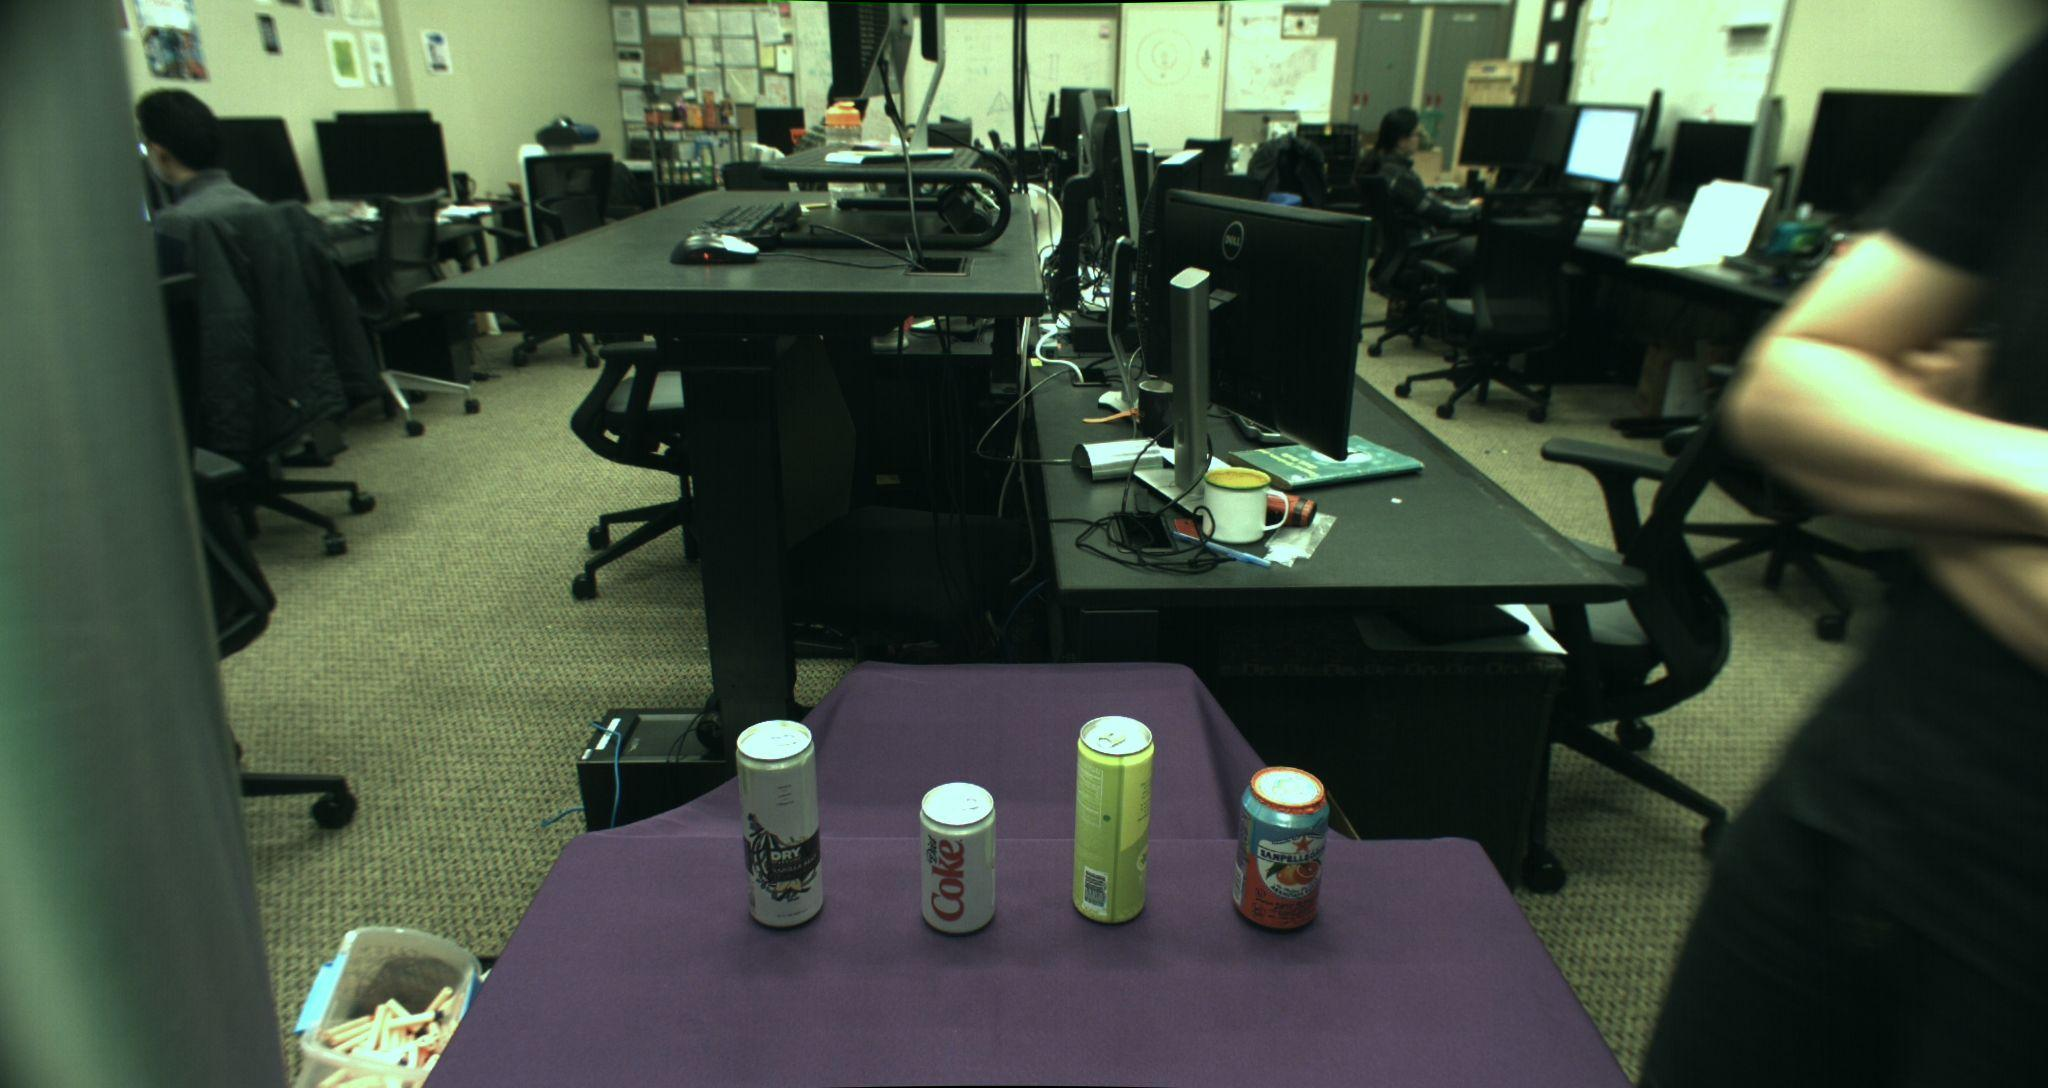can_diet_coke_small: (920, 780, 997, 934)
can_dry_sparkling_vanilla_bean: (734, 719, 824, 929)
can_izze_fusions_lemon_lime: (1071, 715, 1154, 925)
can_sanpellegrino_blood_orange: (1231, 766, 1330, 929)
